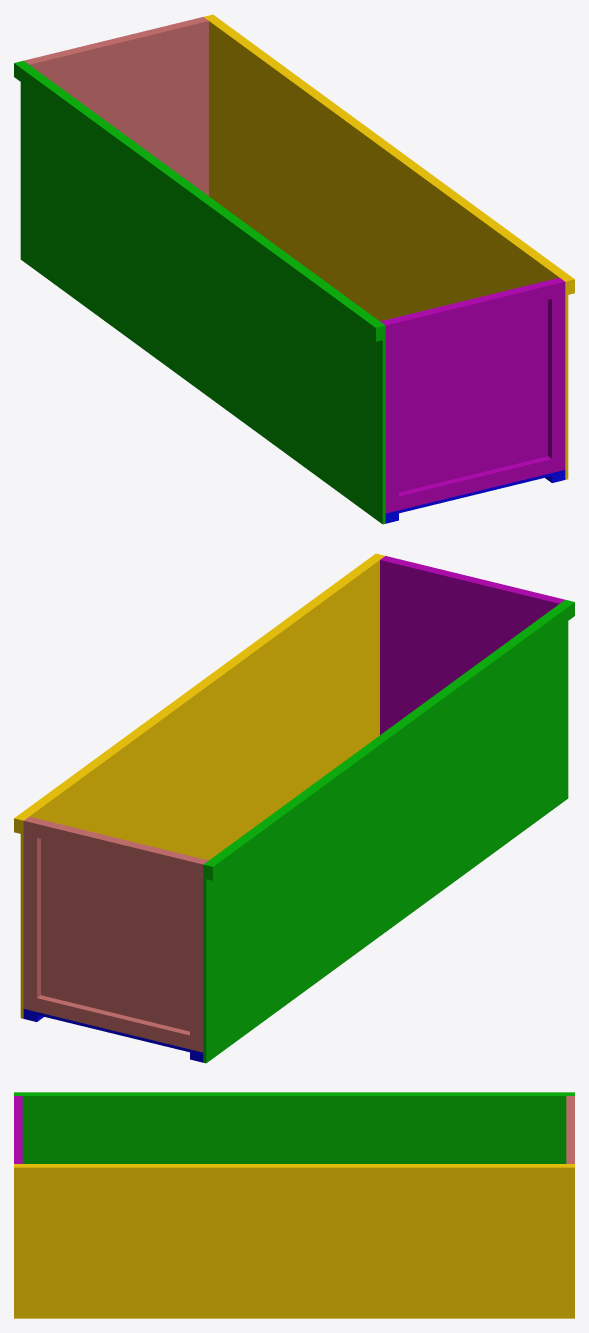
Rendered from result.glb.
3 renders of one model, top to bottom at view 1: azimuth 30°, elevation 25°; view 2: azimuth 150°, elevation 25°; view 3: azimuth 270°, elevation 25°, orthographic. The views are drawn at different scales.
Parts seen in each view (by area): view 1: 6ac8a961-985d-4a08-bb2c-99485d2894b6__Box_6, 9ac08885-7c85-47a8-b02f-29e20b6dc550__undefined, a68786d3-88a8-4bd1-a98d-769652024f57__Box_3, 19bef5e6-528a-49d2-8555-e1e3fdc737a1__undefined, 6c2aee7b-ba30-43d8-bdc9-6ed185c2ea58__Box_7, 3d79b797-e209-48db-8dc1-bb5424f86db0__undefined, 3b189712-4afd-45da-9c17-5b9ee0bd5b54__undefined, f3b41d1f-db8a-4dd6-8026-8983cb552aaa__Box_5, fb44903c-30e1-473f-ac1b-3bbc1893f43e__undefined, 328994b1-21ff-4d5c-9b12-f5e2b75ae539__Box_4, b72fd87f-0ca2-4cee-85ad-32487c4b148e__undefined, fe31d5b7-6c16-4a83-a769-6383f97a6998__Box; view 2: 6ac8a961-985d-4a08-bb2c-99485d2894b6__Box_6, 9ac08885-7c85-47a8-b02f-29e20b6dc550__undefined, 19bef5e6-528a-49d2-8555-e1e3fdc737a1__undefined, a68786d3-88a8-4bd1-a98d-769652024f57__Box_3, 6c2aee7b-ba30-43d8-bdc9-6ed185c2ea58__Box_7, e11426ad-3ee5-45c9-8f34-af5fd09b3c38__undefined, b72fd87f-0ca2-4cee-85ad-32487c4b148e__undefined, 10ef47cb-5e14-429d-b755-830e091f517e__undefined, fb44903c-30e1-473f-ac1b-3bbc1893f43e__undefined, 9f6eb090-a324-4f9d-bf22-a586ee13f936__undefined, 3b189712-4afd-45da-9c17-5b9ee0bd5b54__undefined, fe31d5b7-6c16-4a83-a769-6383f97a6998__Box; view 3: 9ac08885-7c85-47a8-b02f-29e20b6dc550__undefined, 6ac8a961-985d-4a08-bb2c-99485d2894b6__Box_6, fb44903c-30e1-473f-ac1b-3bbc1893f43e__undefined, 6c2aee7b-ba30-43d8-bdc9-6ed185c2ea58__Box_7, 3b189712-4afd-45da-9c17-5b9ee0bd5b54__undefined, b72fd87f-0ca2-4cee-85ad-32487c4b148e__undefined.
Boxes of the visible parts, x1=… form: 6ac8a961-985d-4a08-bb2c-99485d2894b6__Box_6: x1=20, y1=60, x2=385, y2=524; 9ac08885-7c85-47a8-b02f-29e20b6dc550__undefined: x1=203, y1=16, x2=568, y2=479; a68786d3-88a8-4bd1-a98d-769652024f57__Box_3: x1=380, y1=277, x2=560, y2=492; 19bef5e6-528a-49d2-8555-e1e3fdc737a1__undefined: x1=28, y1=20, x2=208, y2=195; 6c2aee7b-ba30-43d8-bdc9-6ed185c2ea58__Box_7: x1=14, y1=61, x2=382, y2=341; 3d79b797-e209-48db-8dc1-bb5424f86db0__undefined: x1=548, y1=279, x2=565, y2=472; 3b189712-4afd-45da-9c17-5b9ee0bd5b54__undefined: x1=395, y1=282, x2=551, y2=335; f3b41d1f-db8a-4dd6-8026-8983cb552aaa__Box_5: x1=399, y1=456, x2=551, y2=510; fb44903c-30e1-473f-ac1b-3bbc1893f43e__undefined: x1=206, y1=14, x2=574, y2=294; 328994b1-21ff-4d5c-9b12-f5e2b75ae539__Box_4: x1=382, y1=319, x2=398, y2=513; b72fd87f-0ca2-4cee-85ad-32487c4b148e__undefined: x1=37, y1=20, x2=193, y2=60; fe31d5b7-6c16-4a83-a769-6383f97a6998__Box: x1=385, y1=470, x2=565, y2=516; 6ac8a961-985d-4a08-bb2c-99485d2894b6__Box_6: x1=203, y1=599, x2=568, y2=1063; 9ac08885-7c85-47a8-b02f-29e20b6dc550__undefined: x1=20, y1=555, x2=385, y2=1018; 19bef5e6-528a-49d2-8555-e1e3fdc737a1__undefined: x1=28, y1=816, x2=208, y2=1031; a68786d3-88a8-4bd1-a98d-769652024f57__Box_3: x1=380, y1=559, x2=560, y2=734; 6c2aee7b-ba30-43d8-bdc9-6ed185c2ea58__Box_7: x1=206, y1=600, x2=574, y2=880; e11426ad-3ee5-45c9-8f34-af5fd09b3c38__undefined: x1=23, y1=818, x2=40, y2=1011; b72fd87f-0ca2-4cee-85ad-32487c4b148e__undefined: x1=37, y1=821, x2=193, y2=874; 10ef47cb-5e14-429d-b755-830e091f517e__undefined: x1=37, y1=995, x2=189, y2=1049; fb44903c-30e1-473f-ac1b-3bbc1893f43e__undefined: x1=14, y1=553, x2=382, y2=833; 9f6eb090-a324-4f9d-bf22-a586ee13f936__undefined: x1=190, y1=858, x2=206, y2=1052; 3b189712-4afd-45da-9c17-5b9ee0bd5b54__undefined: x1=395, y1=559, x2=551, y2=599; fe31d5b7-6c16-4a83-a769-6383f97a6998__Box: x1=23, y1=1009, x2=203, y2=1055; 9ac08885-7c85-47a8-b02f-29e20b6dc550__undefined: x1=14, y1=1164, x2=574, y2=1318; 6ac8a961-985d-4a08-bb2c-99485d2894b6__Box_6: x1=14, y1=1095, x2=574, y2=1163; fb44903c-30e1-473f-ac1b-3bbc1893f43e__undefined: x1=14, y1=1165, x2=574, y2=1178; 6c2aee7b-ba30-43d8-bdc9-6ed185c2ea58__Box_7: x1=14, y1=1092, x2=574, y2=1094; 3b189712-4afd-45da-9c17-5b9ee0bd5b54__undefined: x1=14, y1=1101, x2=19, y2=1158; b72fd87f-0ca2-4cee-85ad-32487c4b148e__undefined: x1=569, y1=1101, x2=574, y2=1158.
Bounding box in the file's own units: 554 × 527 × 1744.
